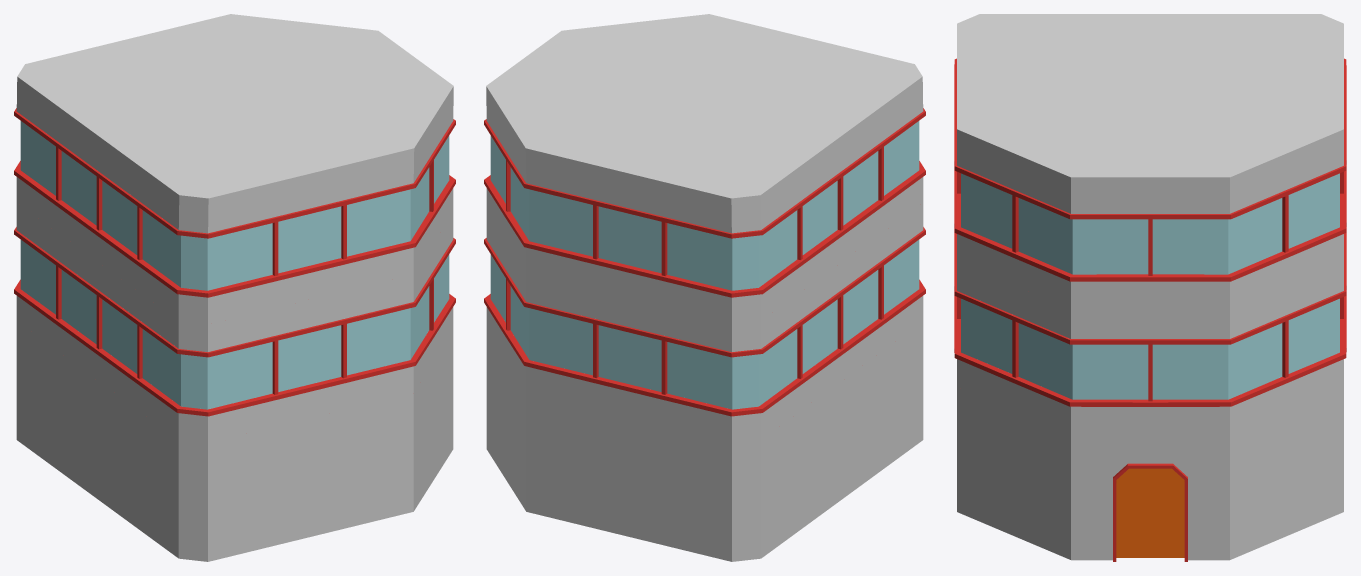
The model's file is quarter_40_b.glb.
The picture shows the model from 3 angles, left to right: view 1: azimuth 30°, elevation 25°; view 2: azimuth 150°, elevation 25°; view 3: azimuth 270°, elevation 25°; orthographic projection. The views are drawn at different scales.
Parts seen in each view (by area): view 1: Building 51_White_0, Building 51_Blue_0, Building 51_Red_0; view 2: Building 51_White_0, Building 51_Blue_0, Building 51_Red_0; view 3: Building 51_White_0, Building 51_Blue_0, Building 51_Red_0, Building 51_Orange_0.
Boxes of the visible parts, x1,y1,x2,y2 form: Building 51_White_0: (16,14,453,561); Building 51_Blue_0: (20,121,449,409); Building 51_Red_0: (14,108,455,416); Building 51_White_0: (486,14,923,561); Building 51_Blue_0: (490,121,919,409); Building 51_Red_0: (484,108,925,416); Building 51_White_0: (957,14,1343,560); Building 51_Blue_0: (961,173,1339,399); Building 51_Red_0: (954,58,1346,561); Building 51_Orange_0: (1116,468,1184,557).
Size of the model in its own units: 1.84 by 1.98 by 1.84.
